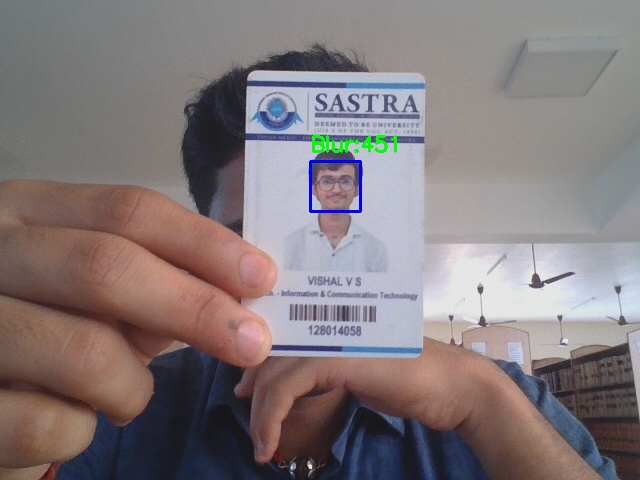fake: (310, 161, 360, 211)
